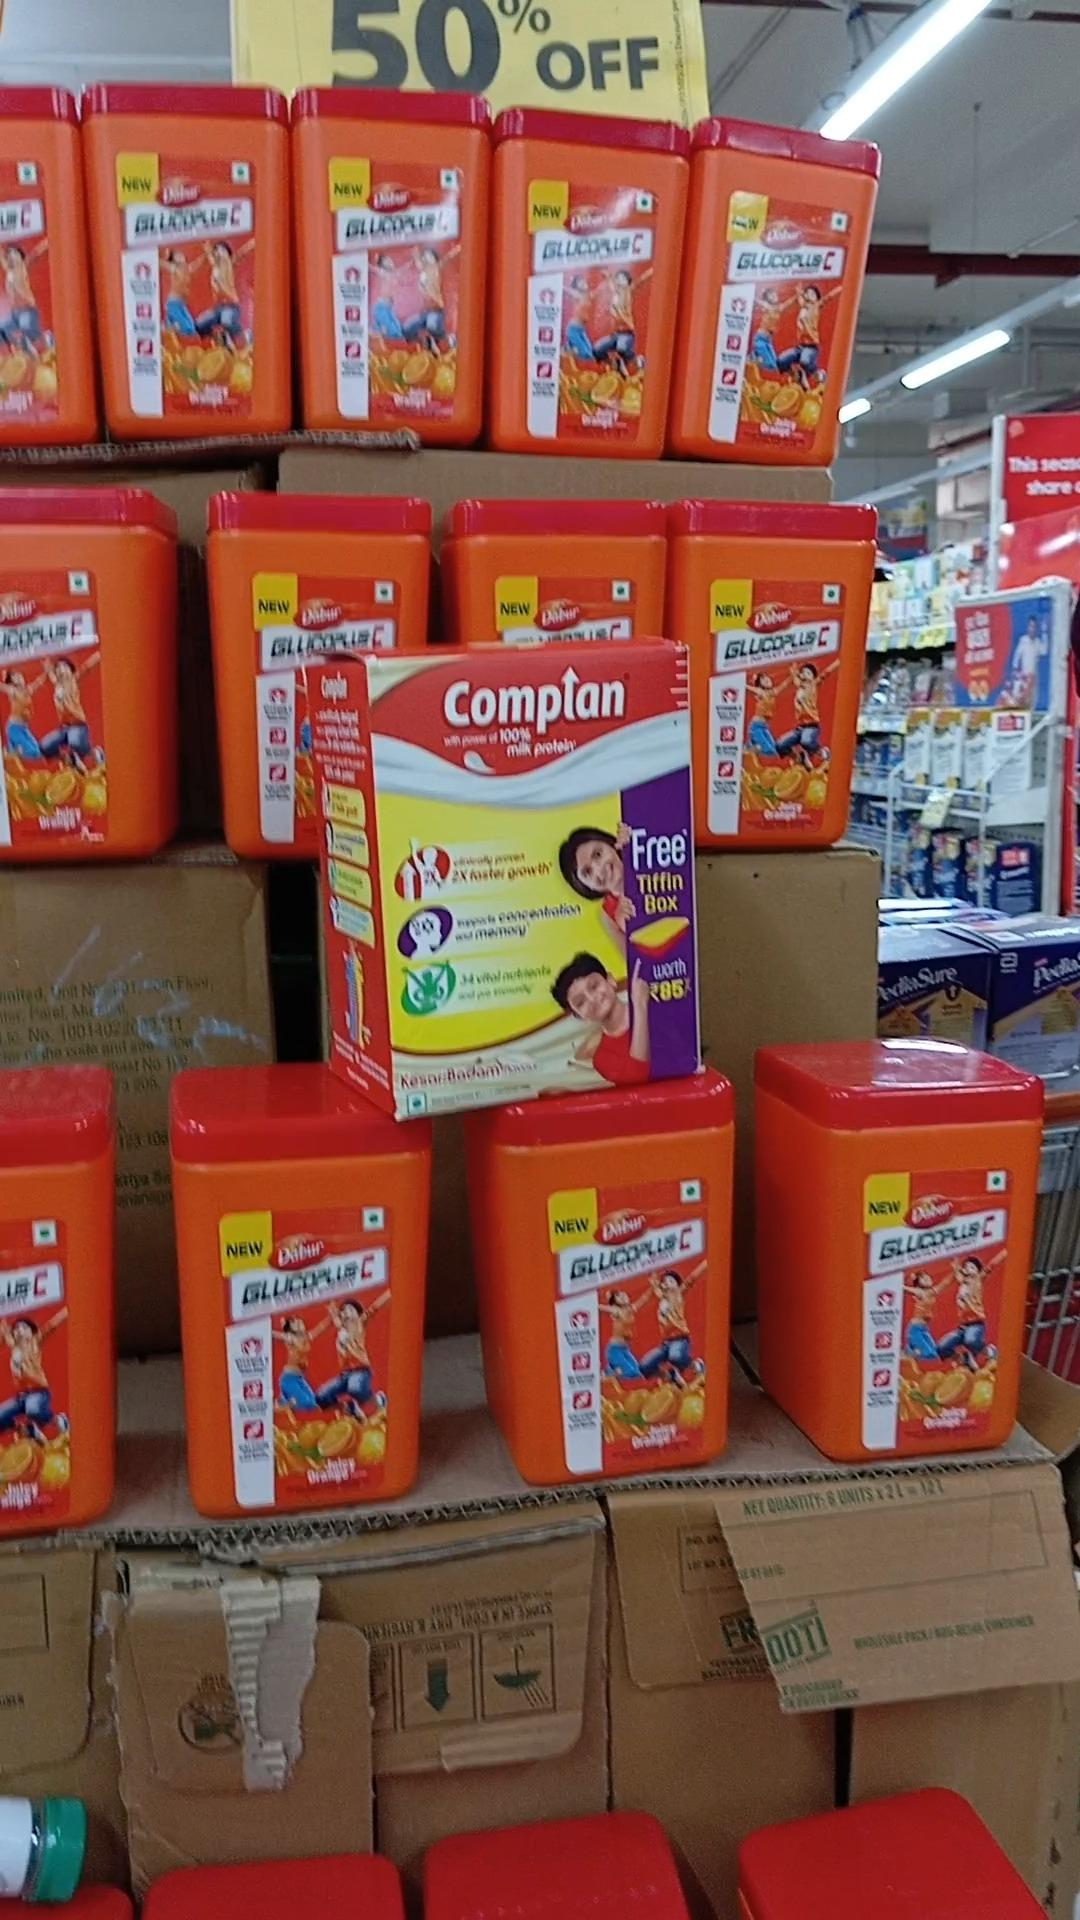COMPLAN_KESAR_BADAM_500_GMS_PACK: (375, 645, 692, 1120)
